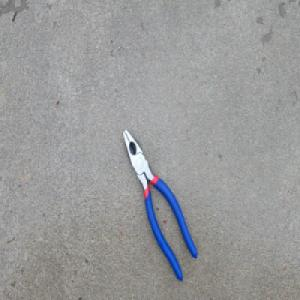Pliers: (122, 127, 198, 284)
